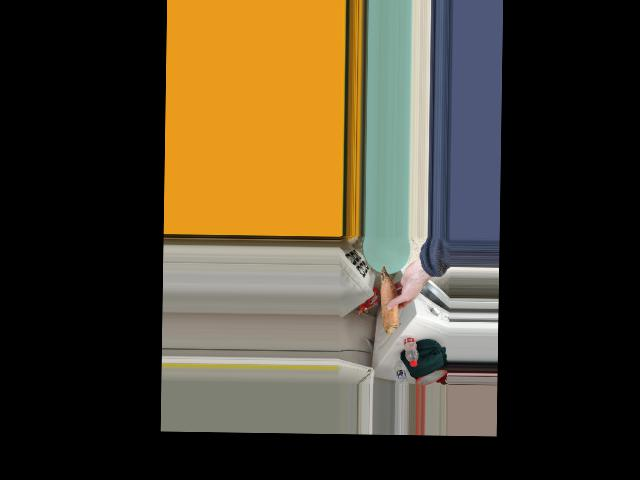sweet_potato: (378, 264, 404, 336)
